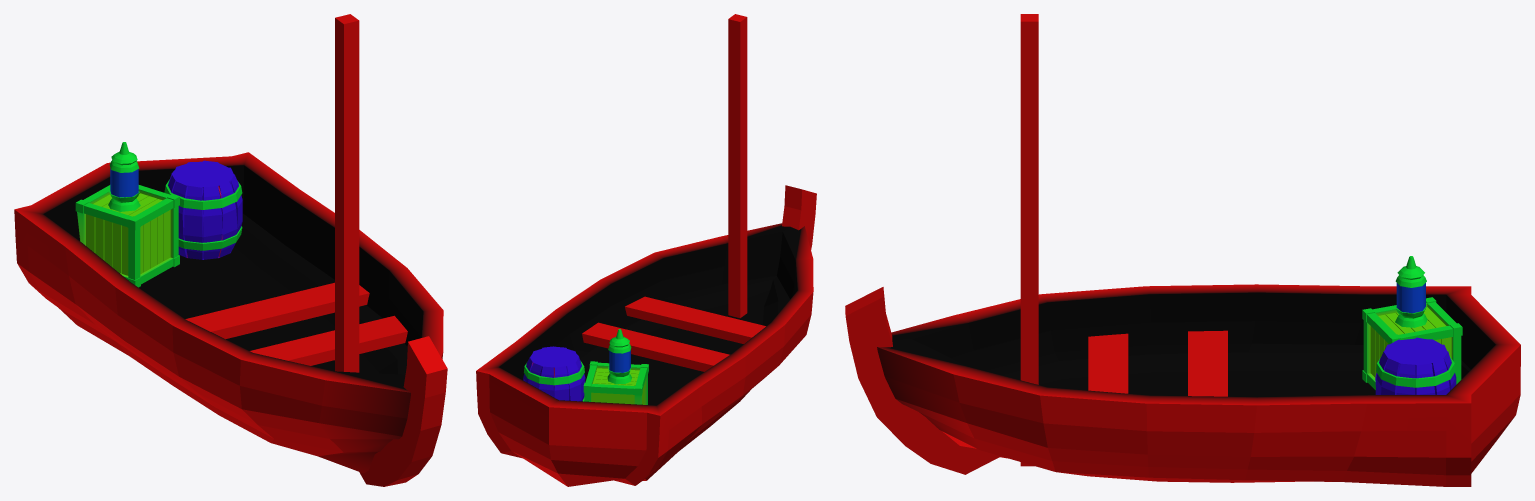
The model's file is Barco.fbx.
3 views of the same model, side by side, from view 1: azimuth 30°, elevation 25°; view 2: azimuth 150°, elevation 25°; view 3: azimuth 270°, elevation 25° (orthographic). The views are drawn at different scales.
Visible parts, largest first — view 1: Cube.005; view 2: Cube.005; view 3: Cube.005.
Boxes of the visible parts, box(x1,y1,x2,y2) form: Cube.005: box(14, 14, 447, 486); Cube.005: box(476, 14, 816, 486); Cube.005: box(845, 14, 1520, 486).
Size of the model in its own units: 190 by 331 by 449.
